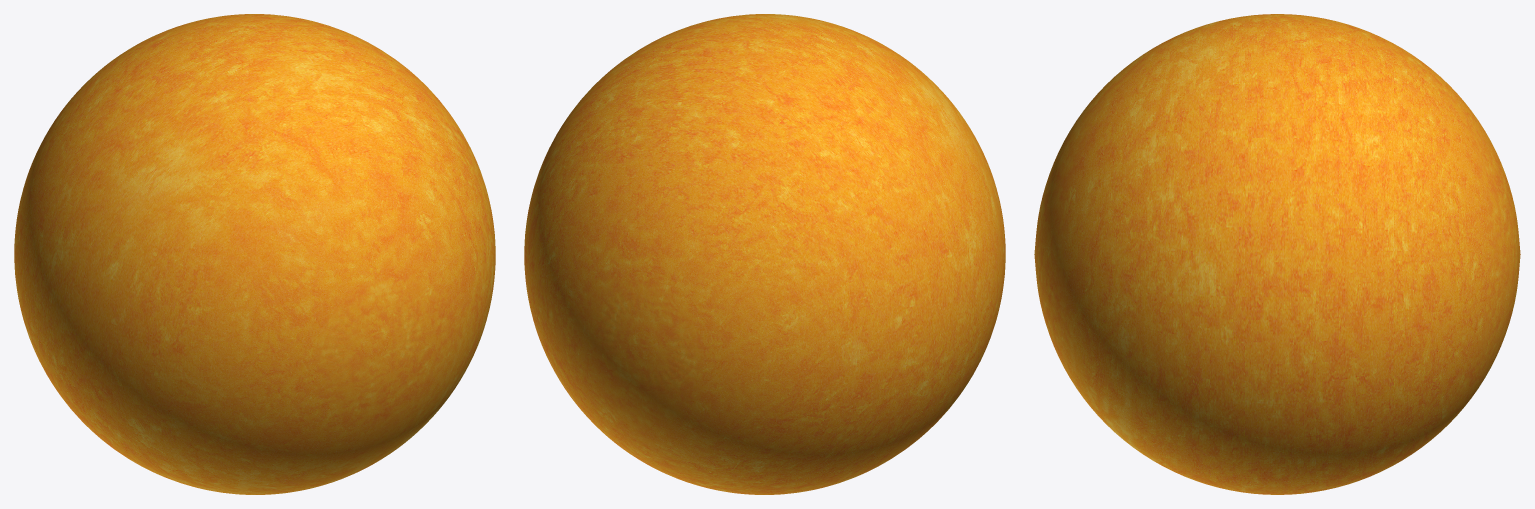
The model's file is Sun.FBX.
The picture shows the model from 3 angles, left to right: view 1: azimuth 30°, elevation 25°; view 2: azimuth 150°, elevation 25°; view 3: azimuth 270°, elevation 25°; orthographic projection.
Parts seen in each view (by area): view 1: 13913_Sun; view 2: 13913_Sun; view 3: 13913_Sun.
Part boxes in pixels (left/top/right/bottom): 13913_Sun: left=14, top=14, right=495, bottom=494; 13913_Sun: left=524, top=14, right=1005, bottom=494; 13913_Sun: left=1034, top=14, right=1520, bottom=494.
Size of the model in its own units: 970 by 970 by 980.
Materials: 1 (1 with a texture image).
